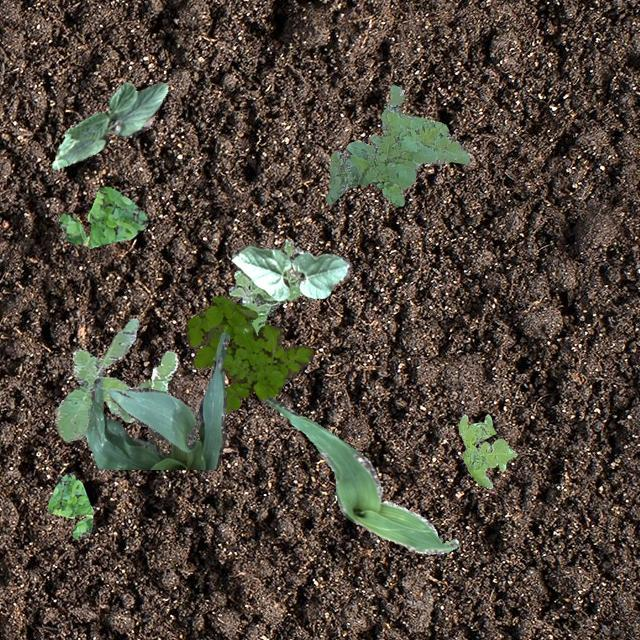crop: (264, 396, 458, 554), (84, 332, 228, 468), (50, 80, 166, 168), (230, 242, 350, 302)
weed: (324, 84, 470, 205), (185, 294, 312, 412), (54, 318, 176, 440), (228, 238, 302, 334), (58, 185, 148, 248), (458, 413, 516, 488), (46, 472, 92, 538)
